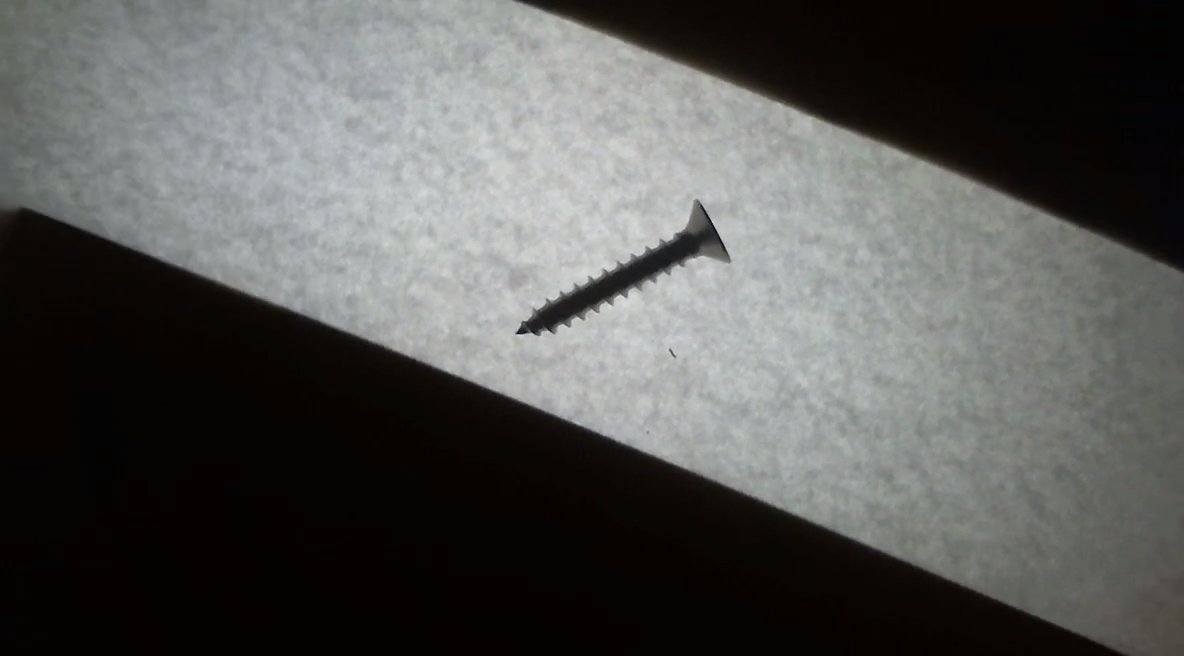S001: (493, 179, 760, 358)
